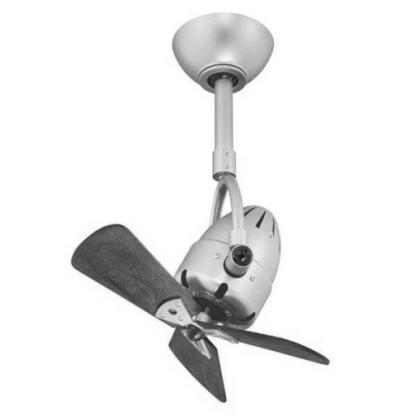ceiling-fan: (70, 12, 329, 402)
